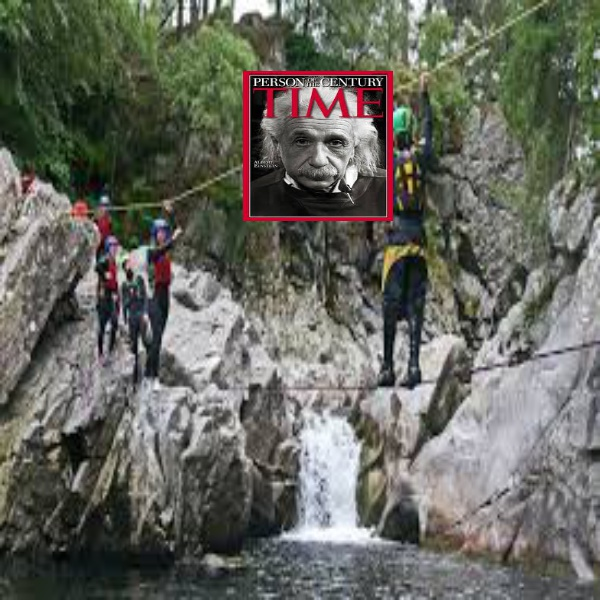time_cover: (237, 53, 401, 222)
